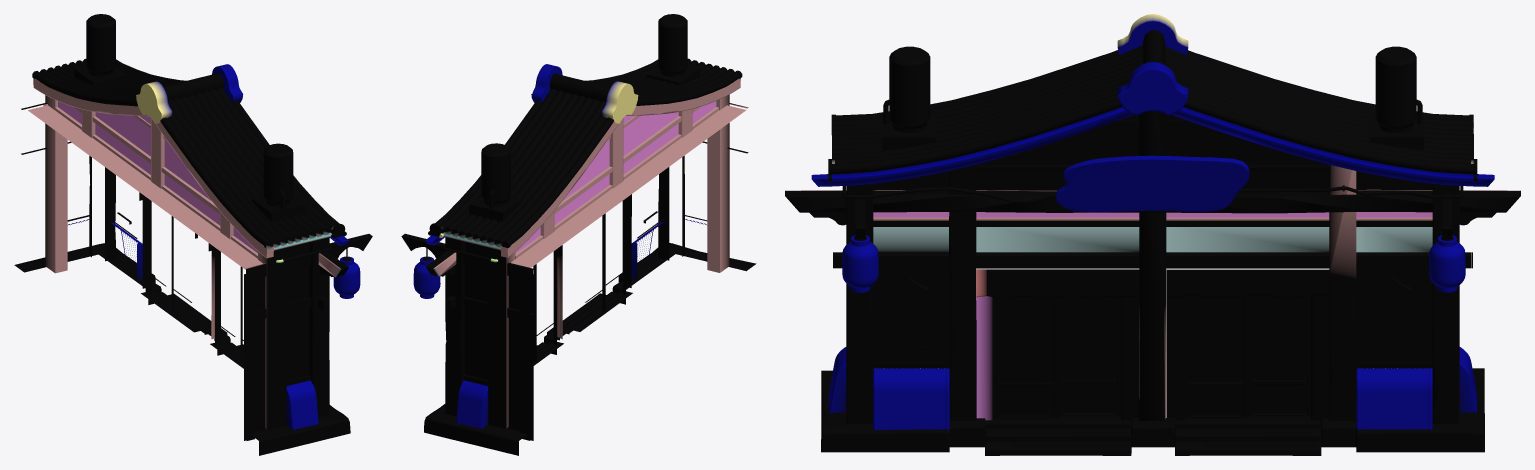
Rendered from SM_ENV_KNVLLG03_AreaB_BuildingBb.gltf.
3 views of the same model, side by side, from view 1: azimuth 30°, elevation 25°; view 2: azimuth 150°, elevation 25°; view 3: azimuth 270°, elevation 25° (orthographic). The views are drawn at different scales.
Parts seen in each view (by area): view 1: SM_ENV_KNVLLG03_AreaB_BuildingBb; view 2: SM_ENV_KNVLLG03_AreaB_BuildingBb; view 3: SM_ENV_KNVLLG03_AreaB_BuildingBb.
Part boxes in pixels (x1=…): SM_ENV_KNVLLG03_AreaB_BuildingBb: x1=14, y1=14, x2=372, y2=455; SM_ENV_KNVLLG03_AreaB_BuildingBb: x1=401, y1=14, x2=756, y2=455; SM_ENV_KNVLLG03_AreaB_BuildingBb: x1=785, y1=14, x2=1520, y2=455.
Size of the model in its own units: 4.7 by 9.42 by 16.34.
